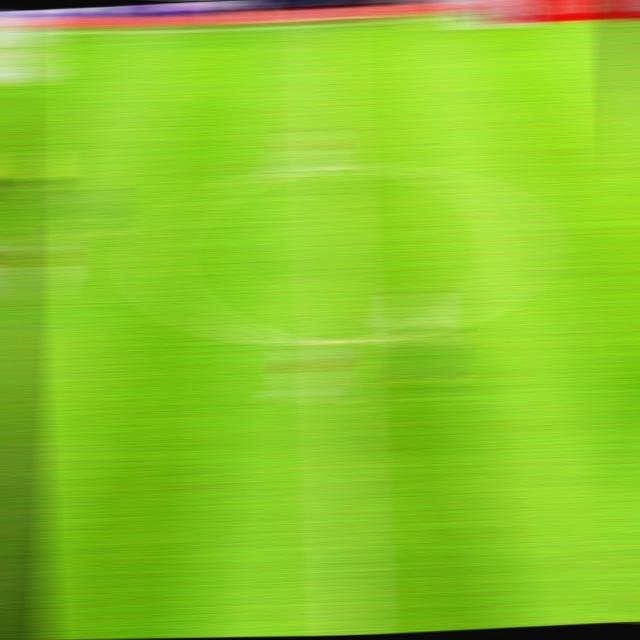halfcircle_bottom: (313, 317, 369, 365)
halfcircle_top: (307, 150, 357, 181)
midline_top_intersection: (301, 7, 351, 44)
